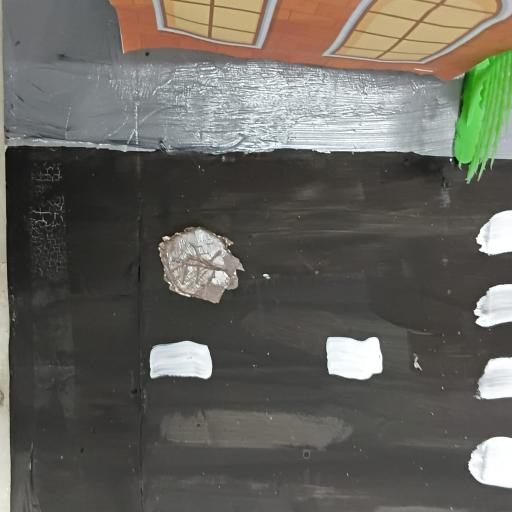porthole: (152, 217, 253, 309)
